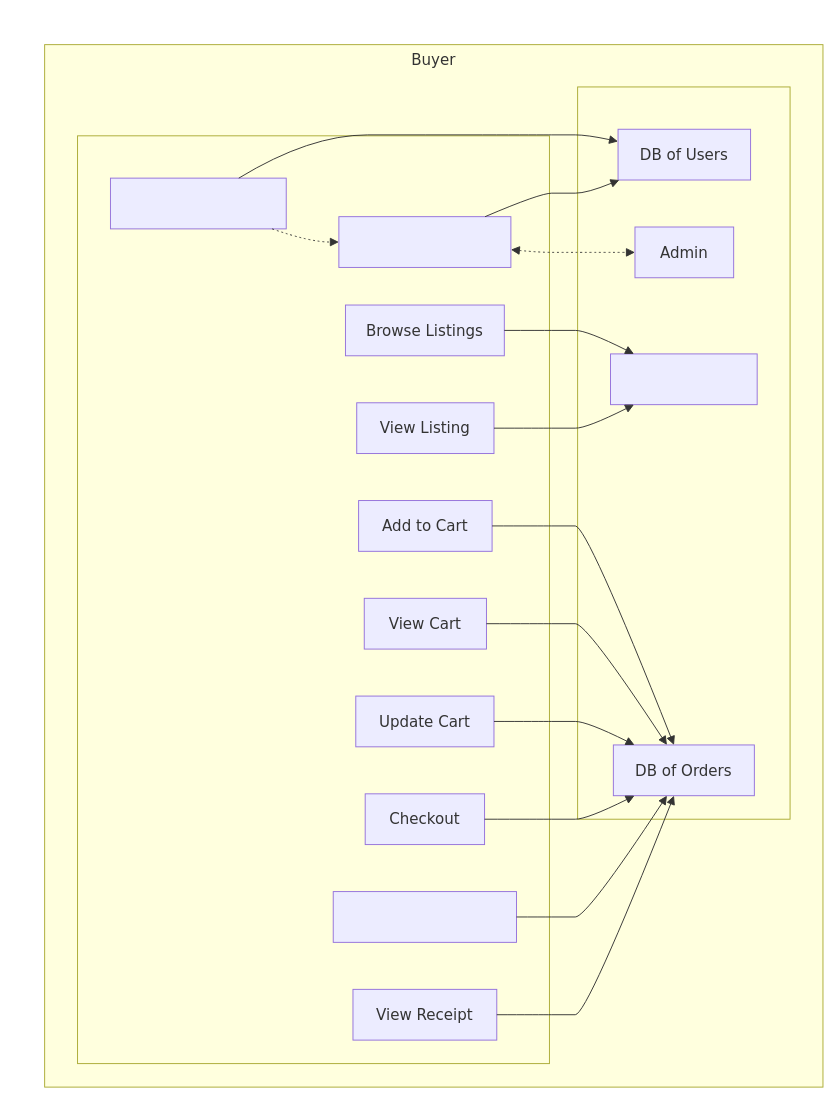
The diagram is 839 pixels wide and 1104 high, and some of its shapes have lost their labels. Each missing label, with the centre of its shape:
Buyer Onboarding: the point at 198,203
DB of Listings: the point at 683,379
Pending Approval: the point at 424,241
View Order History: the point at 424,916
